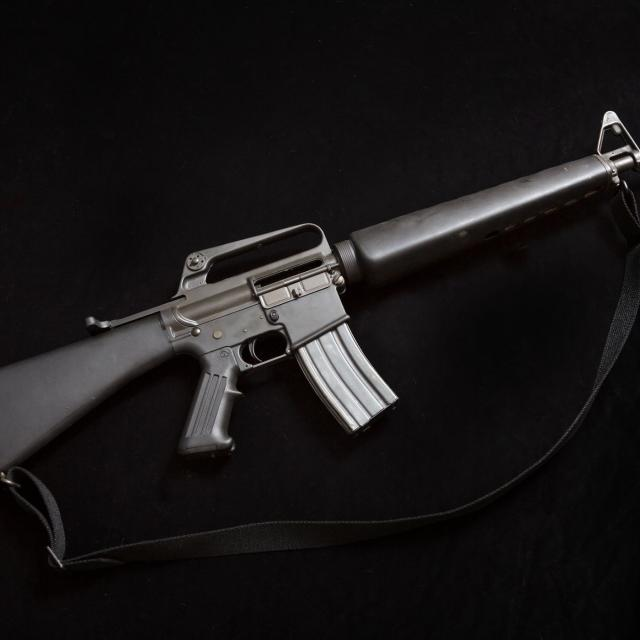Rifle: (0, 114, 640, 475)
